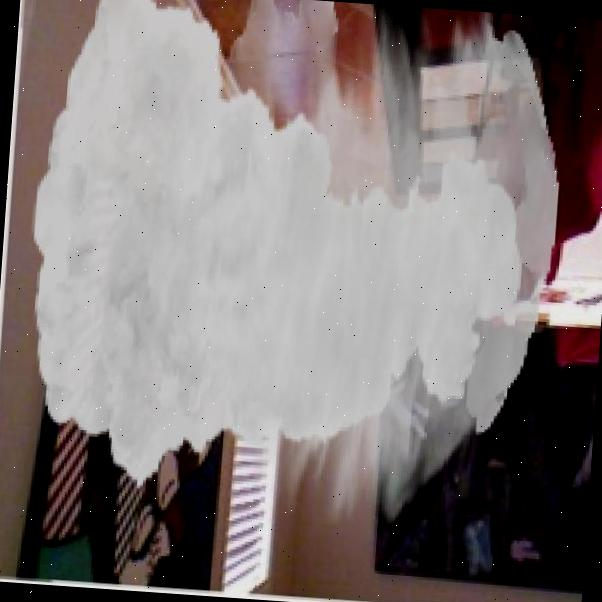smoke: (12, 0, 570, 539)
